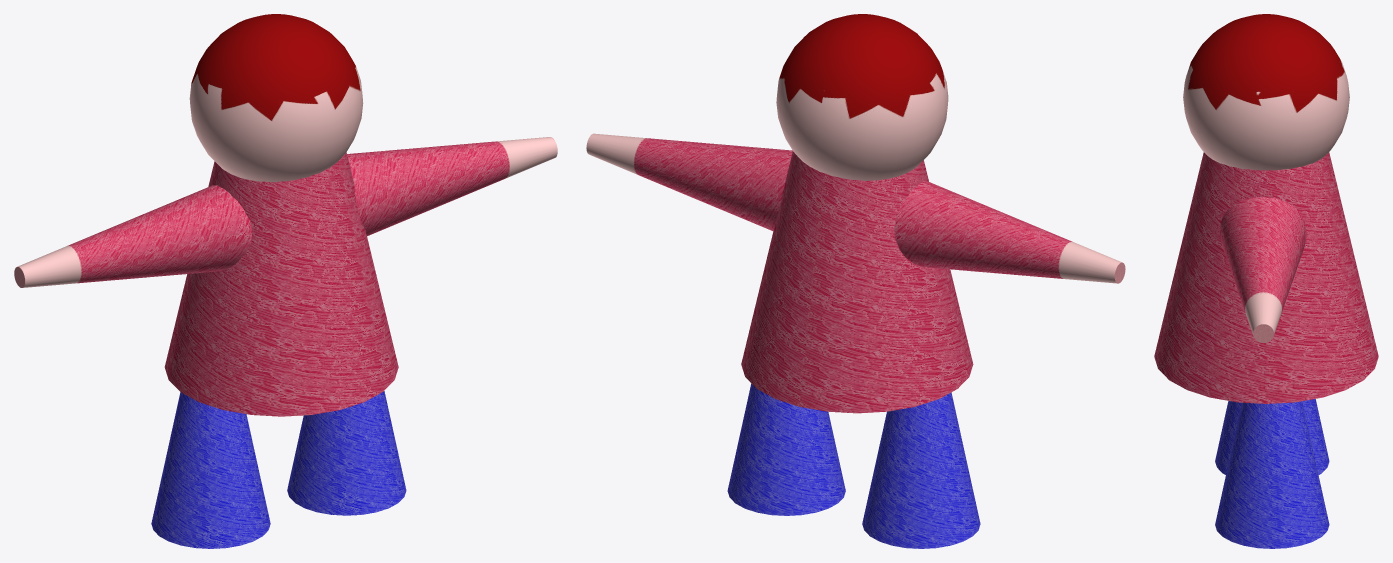
Rendered from person.FBX.
The picture shows the model from 3 angles, left to right: view 1: azimuth 30°, elevation 25°; view 2: azimuth 150°, elevation 25°; view 3: azimuth 270°, elevation 25°; orthographic projection. The views are drawn at different scales.
Parts seen in each view (by area): view 1: Cone01, Sphere01, Cone02, Cone04, Cone05, Cone03; view 2: Cone01, Sphere01, Cone02, Cone04, Cone03, Cone05; view 3: Cone01, Sphere01, Cone03, Cone05, Cone02.
Part boxes in pixels (<box>): Cone01: <box>164,152,398,416</box>; Sphere01: <box>189,14,363,182</box>; Cone02: <box>151,392,270,548</box>; Cone04: <box>14,185,252,287</box>; Cone05: <box>347,137,557,236</box>; Cone03: <box>287,391,406,515</box>; Cone01: <box>741,151,973,413</box>; Sphere01: <box>776,14,948,180</box>; Cone02: <box>862,392,980,548</box>; Cone04: <box>894,180,1125,283</box>; Cone03: <box>727,384,845,515</box>; Cone05: <box>586,133,792,230</box>; Cone01: <box>1154,152,1378,403</box>; Sphere01: <box>1183,14,1349,170</box>; Cone03: <box>1215,401,1329,548</box>; Cone05: <box>1220,197,1306,342</box>; Cone02: <box>1215,399,1329,474</box>.
Size of the model in its own units: 47.34 by 41.51 by 18.02.
Materials: 4 (4 with a texture image).
